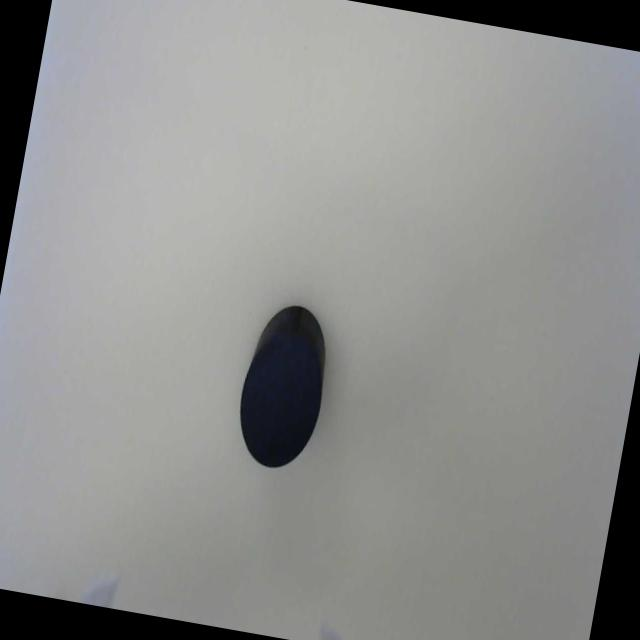circle: (229, 327, 332, 476)
